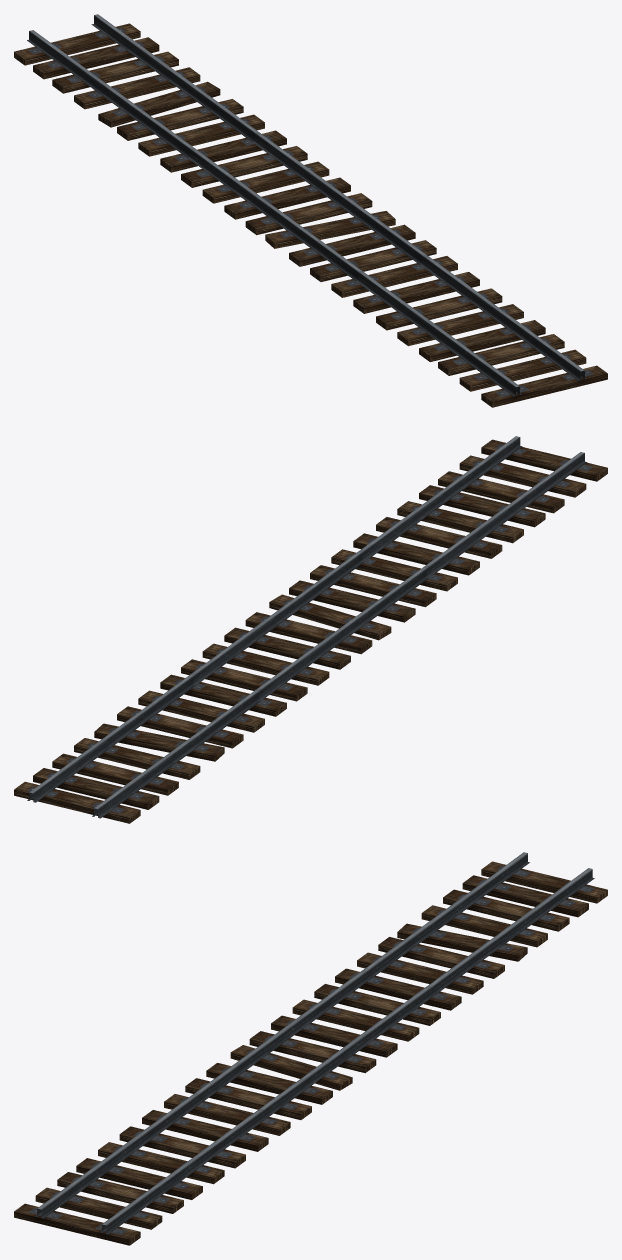
Rendered from DemoRail.FBX.
3 views of the same model, one above another, from view 1: azimuth 30°, elevation 25°; view 2: azimuth 150°, elevation 25°; view 3: azimuth 330°, elevation 25° (orthographic).
Visible parts, largest first — view 1: demo_rail; view 2: demo_rail; view 3: demo_rail.
Boxes of the visible parts, left/top/right/bottom form: demo_rail: left=14, top=14, right=607, bottom=407; demo_rail: left=14, top=436, right=607, bottom=823; demo_rail: left=14, top=852, right=607, bottom=1245.
Bounding box in the file's own units: 3.16 × 0.3858 × 22.76.
